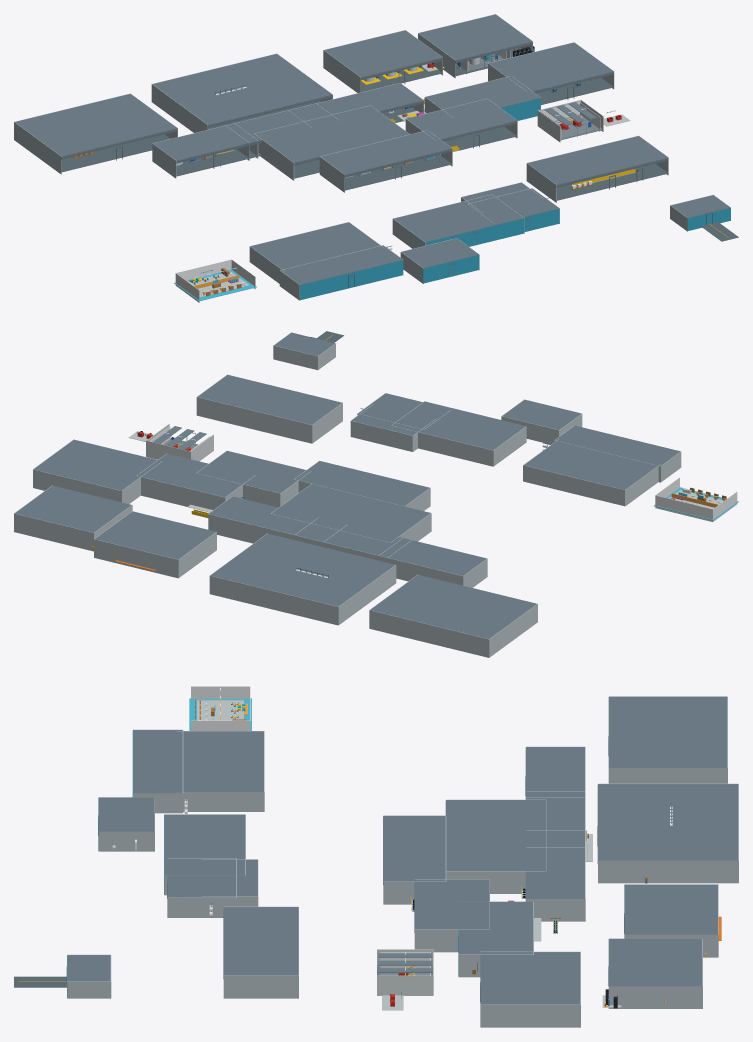
File: POVU_REV005_INTERIOR_COMPLETION_MASTER.glb
3 views of the same model, one above another, from view 1: azimuth 30°, elevation 25°; view 2: azimuth 150°, elevation 25°; view 3: azimuth 270°, elevation 25° (orthographic). The views are drawn at different scales.
Parts seen in each view (by area): view 1: V09_PACKAGING_WH_SOFFIT, V09_RAW_MATERIALS_SOFFIT, V09_WET_PROCESS_SOFFIT, V09_ETP_SOFFIT, V09_FINISHED_GOODS_SOFFIT, V09_ADMIN_SOFFIT, V09_RESTAURANT_SOFFIT, V09_CHEM_SOFFIT, V09_UTILITIES_SOFFIT, V09_LIQUID_SOFFIT, V09_BLOW_SOFFIT, V09_WET_WIPES_SOFFIT (+31 smaller); view 2: V09_PACKAGING_WH_SOFFIT, V09_RAW_MATERIALS_SOFFIT, V09_WET_PROCESS_SOFFIT, V09_ETP_SOFFIT, V09_FINISHED_GOODS_SOFFIT, V09_ADMIN_SOFFIT, V09_RESTAURANT_SOFFIT, V09_CHEM_SOFFIT, V09_UTILITIES_SOFFIT, V09_LIQUID_SOFFIT, V09_BLOW_SOFFIT, V09_PACKAGING_WH_BACK_WALL (+30 smaller); view 3: V09_PACKAGING_WH_SOFFIT, V09_RAW_MATERIALS_SOFFIT, V09_WET_PROCESS_SOFFIT, V09_ADMIN_SOFFIT, V09_FINISHED_GOODS_SOFFIT, V09_ETP_SOFFIT, V09_RESTAURANT_SOFFIT, V09_CHEM_SOFFIT, V09_UTILITIES_SOFFIT, V09_LIQUID_SOFFIT, V09_GLASS_DECK_SOFFIT, V09_PACKAGING_WH_RIGHT_WALL (+29 smaller).
Part boxes in pixels (box(x1,y1,x2,y2)): V09_PACKAGING_WH_SOFFIT: box(152, 54, 332, 125); V09_RAW_MATERIALS_SOFFIT: box(15, 94, 177, 156); V09_WET_PROCESS_SOFFIT: box(255, 106, 409, 163); V09_ETP_SOFFIT: box(489, 42, 613, 92); V09_FINISHED_GOODS_SOFFIT: box(527, 136, 668, 185); V09_ADMIN_SOFFIT: box(250, 222, 382, 269); V09_RESTAURANT_SOFFIT: box(393, 194, 523, 242); V09_CHEM_SOFFIT: box(324, 30, 442, 77); V09_UTILITIES_SOFFIT: box(419, 14, 532, 60); V09_LIQUID_SOFFIT: box(320, 131, 451, 174); V09_BLOW_SOFFIT: box(406, 99, 516, 139); V09_WET_WIPES_SOFFIT: box(289, 83, 423, 126); V09_PACKAGING_WH_SOFFIT: box(211, 533, 395, 606); V09_RAW_MATERIALS_SOFFIT: box(370, 575, 536, 638); V09_WET_PROCESS_SOFFIT: box(272, 484, 430, 536); V09_ETP_SOFFIT: box(34, 439, 161, 490); V09_FINISHED_GOODS_SOFFIT: box(198, 375, 341, 424); V09_ADMIN_SOFFIT: box(524, 439, 657, 489); V09_RESTAURANT_SOFFIT: box(392, 401, 525, 449); V09_CHEM_SOFFIT: box(95, 511, 215, 559); V09_UTILITIES_SOFFIT: box(15, 485, 131, 532); V09_LIQUID_SOFFIT: box(299, 461, 429, 506); V09_BLOW_SOFFIT: box(197, 451, 310, 493); V09_PACKAGING_WH_BACK_WALL: box(209, 575, 338, 625); V09_PACKAGING_WH_SOFFIT: box(598, 784, 738, 860); V09_RAW_MATERIALS_SOFFIT: box(608, 697, 727, 767); V09_WET_PROCESS_SOFFIT: box(446, 800, 545, 870); V09_ADMIN_SOFFIT: box(176, 731, 263, 791); V09_FINISHED_GOODS_SOFFIT: box(223, 907, 298, 975); V09_ETP_SOFFIT: box(480, 952, 580, 1004); V09_RESTAURANT_SOFFIT: box(164, 814, 245, 875); V09_CHEM_SOFFIT: box(624, 884, 717, 934); V09_UTILITIES_SOFFIT: box(608, 939, 702, 986); V09_LIQUID_SOFFIT: box(383, 816, 445, 881); V09_GLASS_DECK_SOFFIT: box(458, 902, 533, 954); V09_PACKAGING_WH_RIGHT_WALL: box(598, 860, 738, 883).
Size of the model in its own units: 247 by 9.25 by 232.
